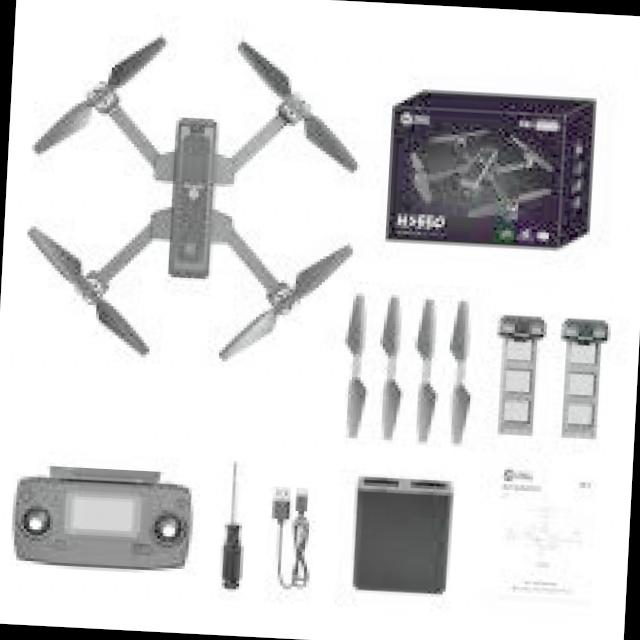drone: (14, 23, 374, 382)
